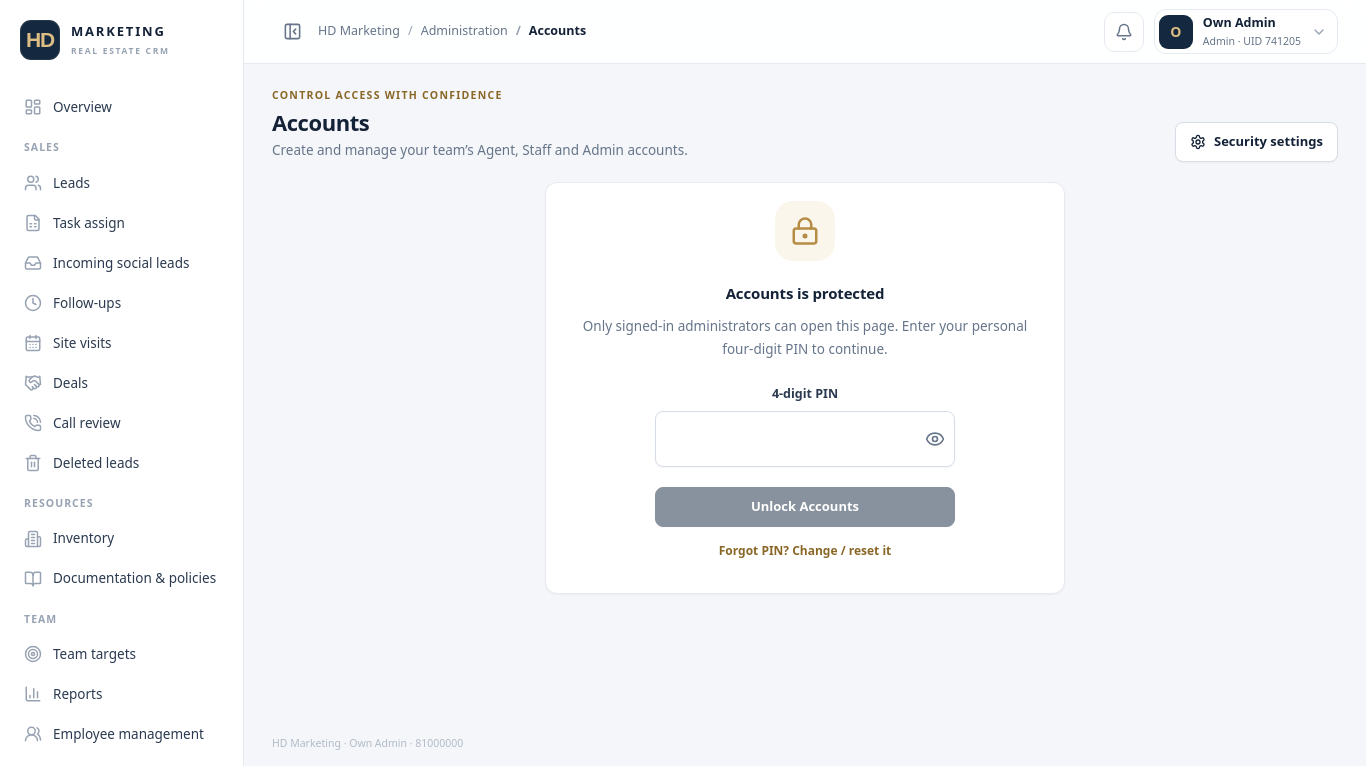
Test: Account email codes in Accounts › verifies a pending agent with an emailed code and password without an invitation link
Type "0123" into the password field labelled "4-digit PIN" at (805, 439), box [655,411,955,467]
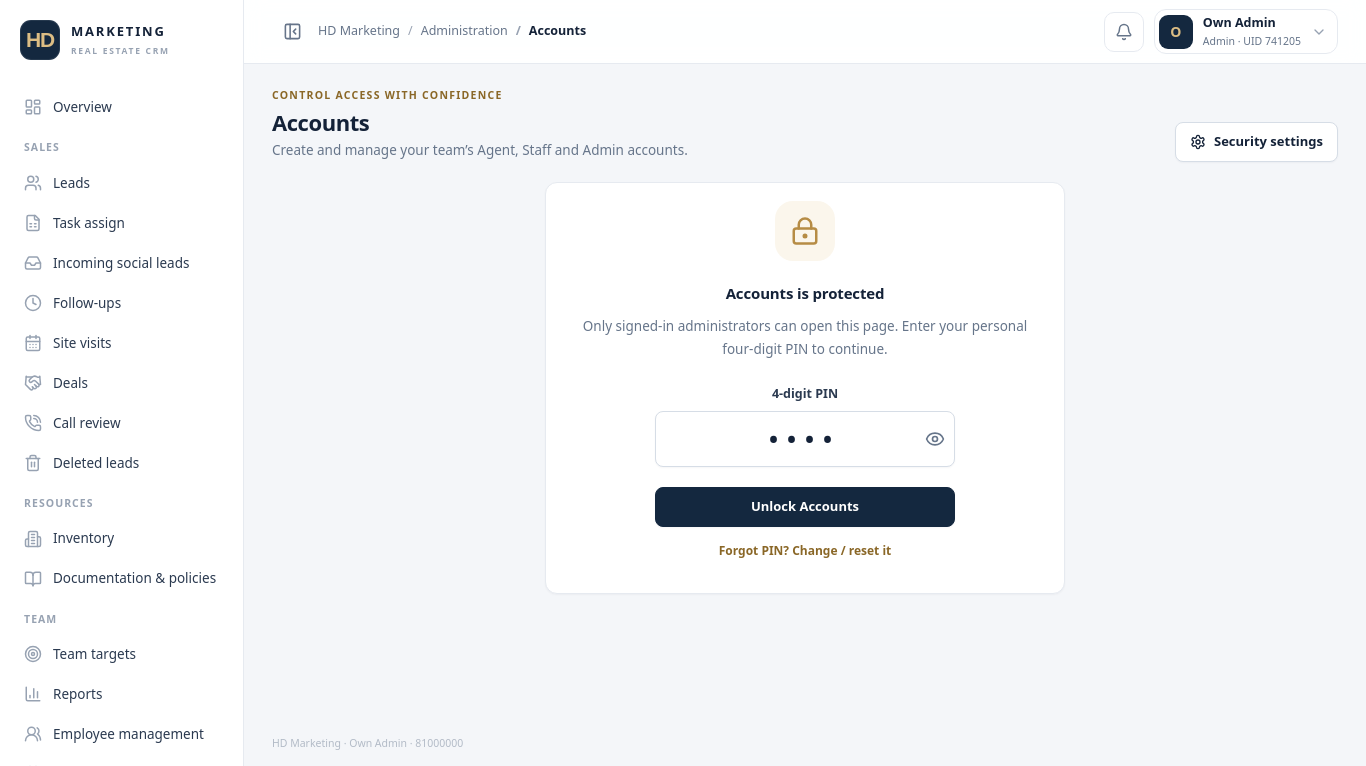
Click the button "Unlock Accounts" at (805, 507), box [655,487,955,527]
(page scrolled)
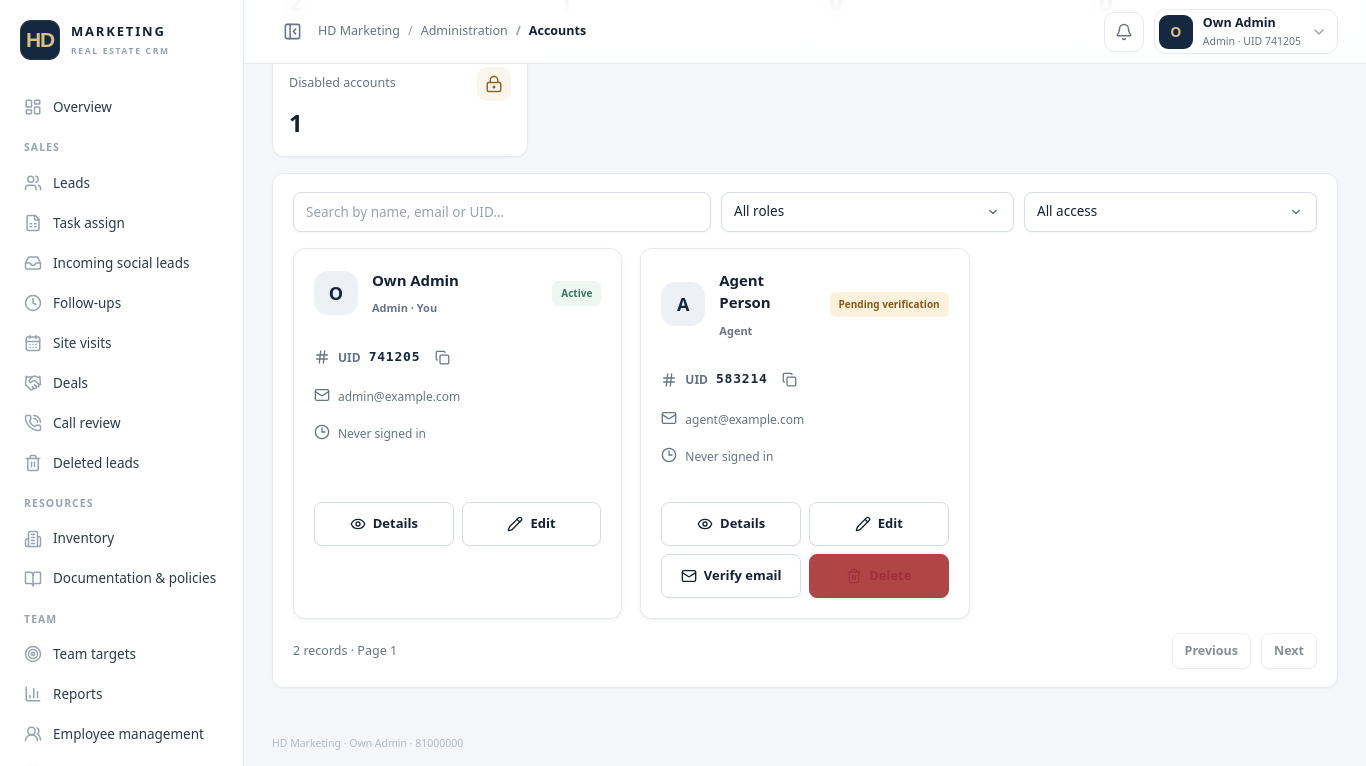
Check: the button with aria-label "Details for Agent Person" is shown, box [661,502,801,546]
Click the button with aria-label "Verify email for Agent Person" at (731, 576), box [661,554,801,598]
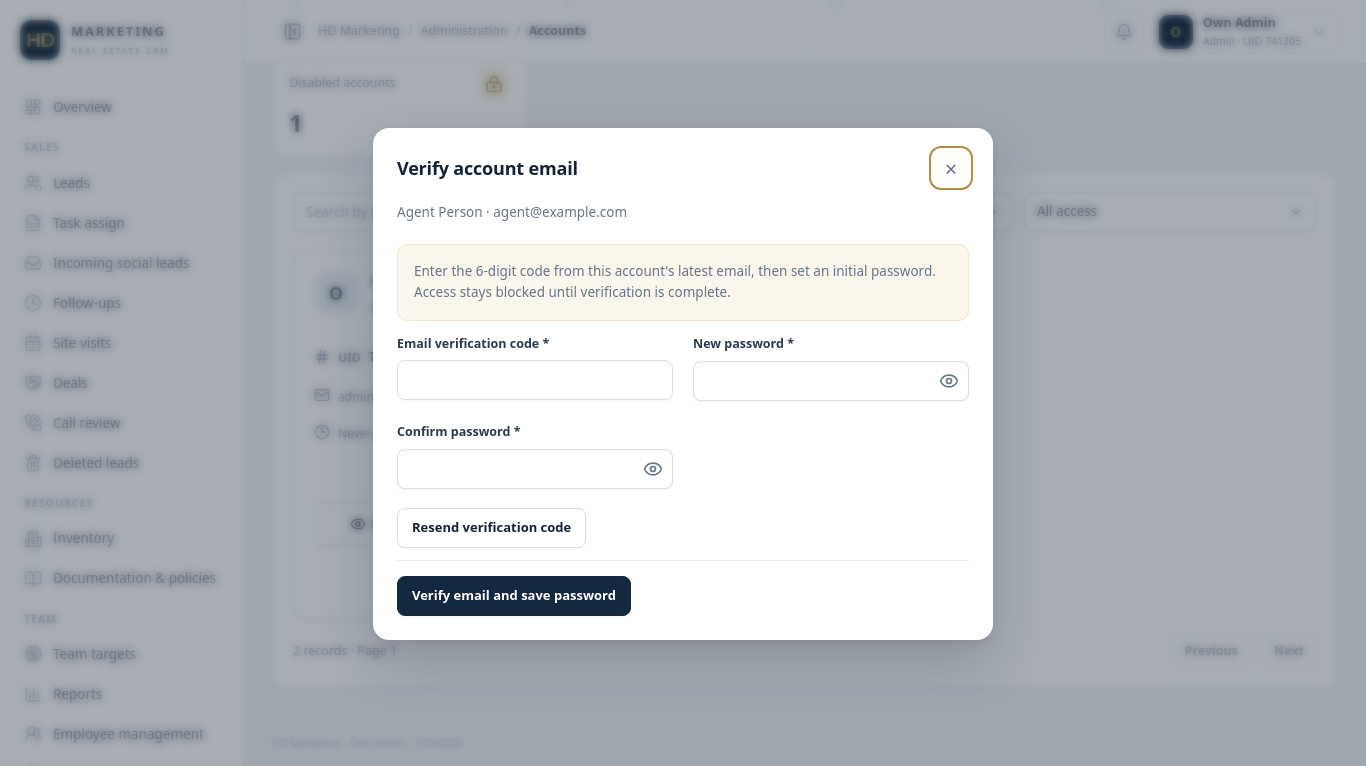
Check: the link "Forgot PIN? Change / reset it" is not shown
Type "123456" into the field labelled "Email verification code" at (535, 380), box [397,360,673,400]
Type "initial-agent-password-123" into the password field labelled "New password" at (831, 381), box [693,361,969,401]
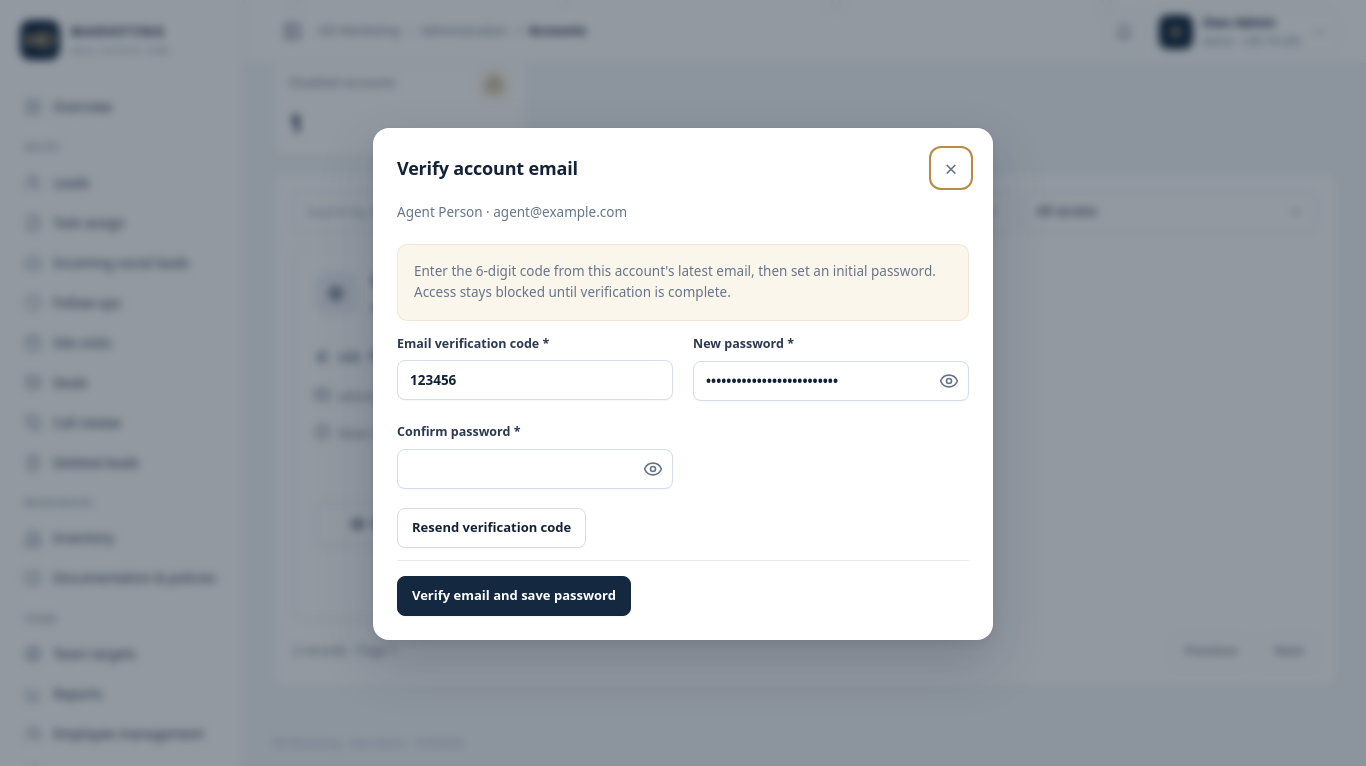
Type "initial-agent-password-123" into the password field labelled "Confirm password" at (535, 469), box [397,449,673,489]
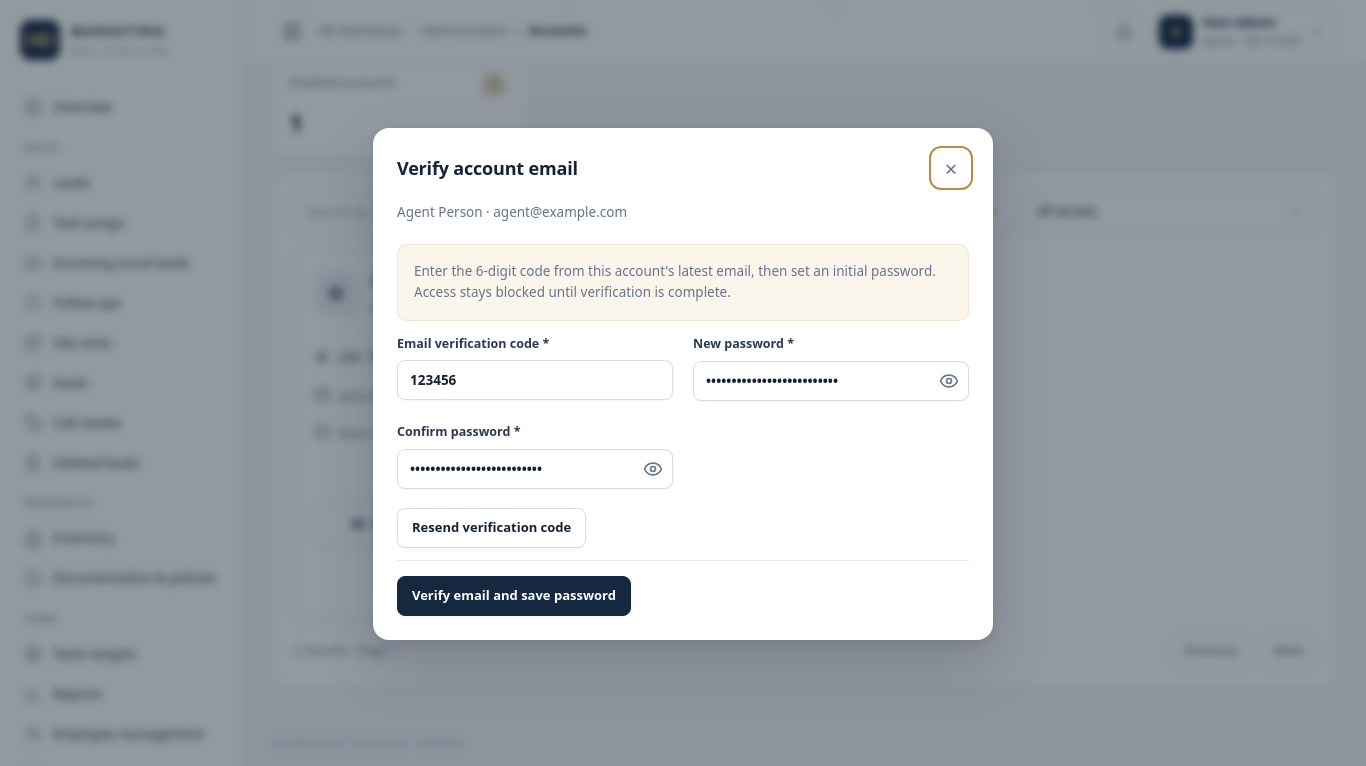
Click the button "Verify email and save password" at (514, 596), box [397,576,631,616]
(page scrolled)
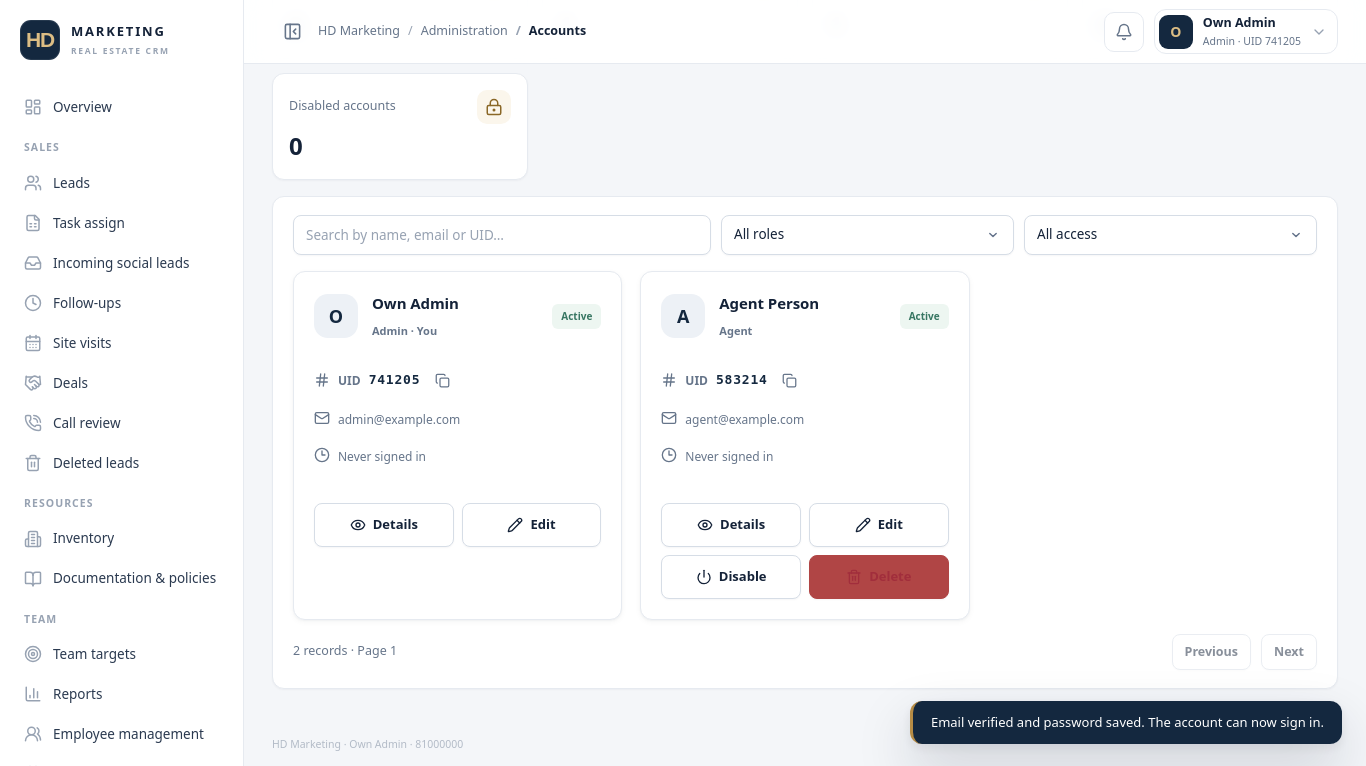
Check: the dialog is gone
Check: the label labelled "New password" is gone
